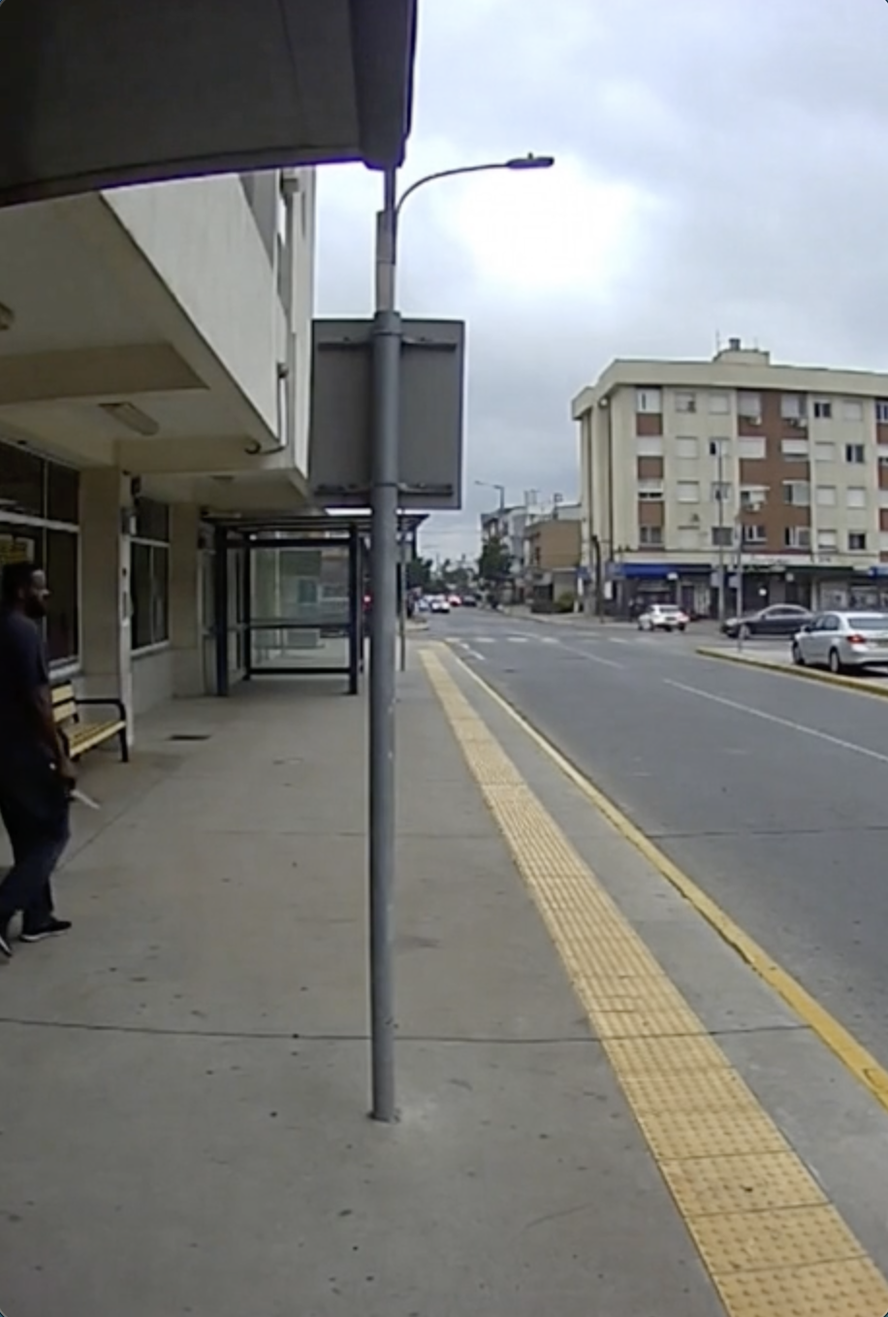Heavy Gun: (0, 559, 79, 958)
Knife: (61, 783, 106, 819)
